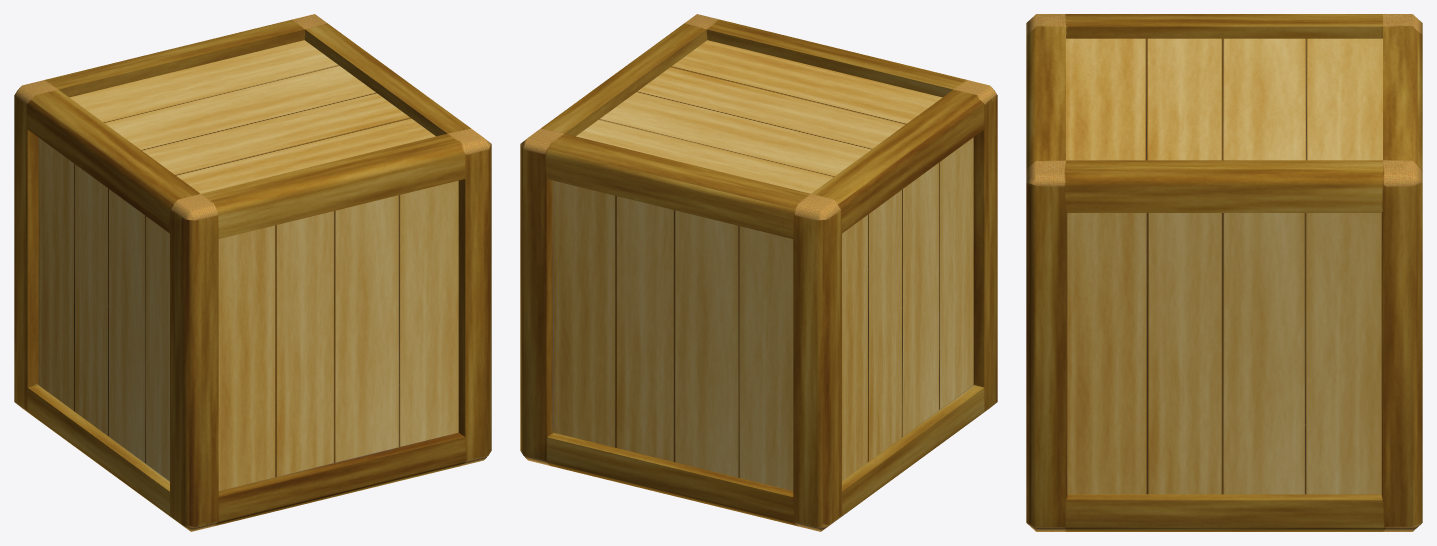
File: woodbox.fbx
3 renders of one model, left to right at view 1: azimuth 30°, elevation 25°; view 2: azimuth 150°, elevation 25°; view 3: azimuth 270°, elevation 25°, orthographic. The views are drawn at different scales.
Visible parts, largest first — view 1: woodbox; view 2: woodbox; view 3: woodbox.
Boxes of the visible parts, x1,y1,x2,y2 form: woodbox: (14,14,491,531); woodbox: (520,14,997,531); woodbox: (1026,14,1422,531).
Bounding box in the file's own units: 100 × 100 × 100.
